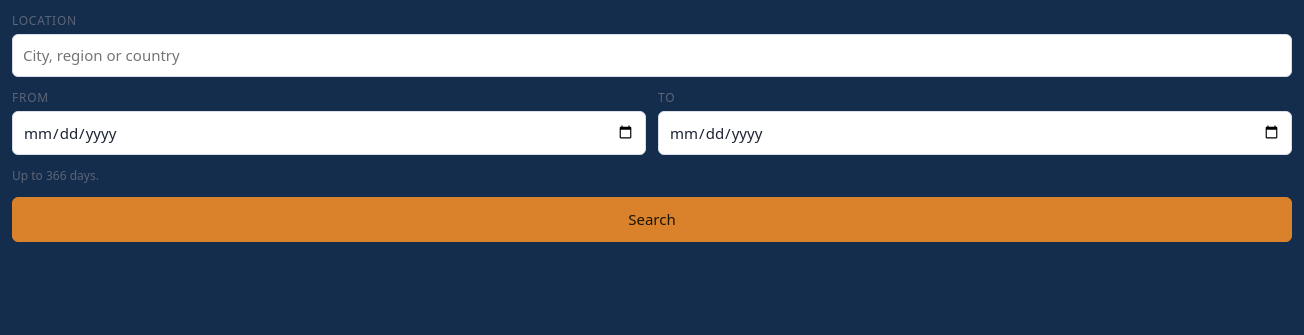
Test: SearchForm › marks the dates when the server rejects the range
This screenshot has width=1304, height=335.
Type "Santiago" into the field labelled "Location" at [652, 55], box left=12, top=34, right=1292, bottom=76
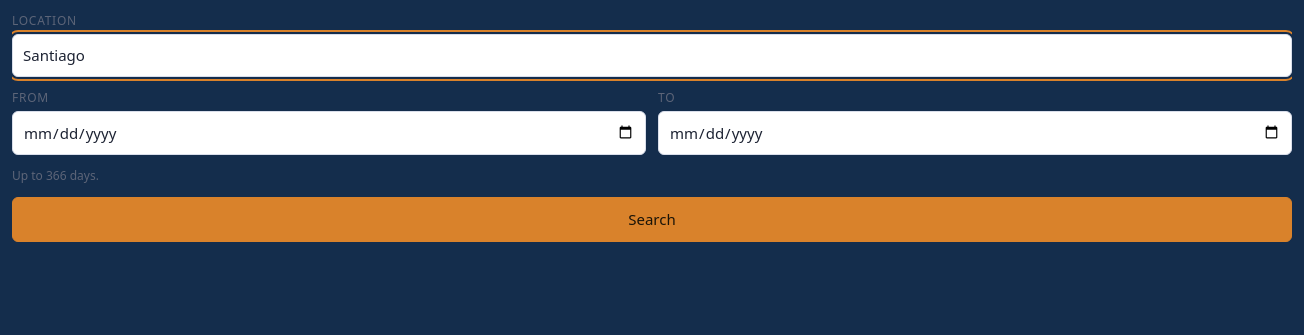
Type "2025-01-01" into the date field labelled "From" at [329, 133], box left=12, top=110, right=646, bottom=155
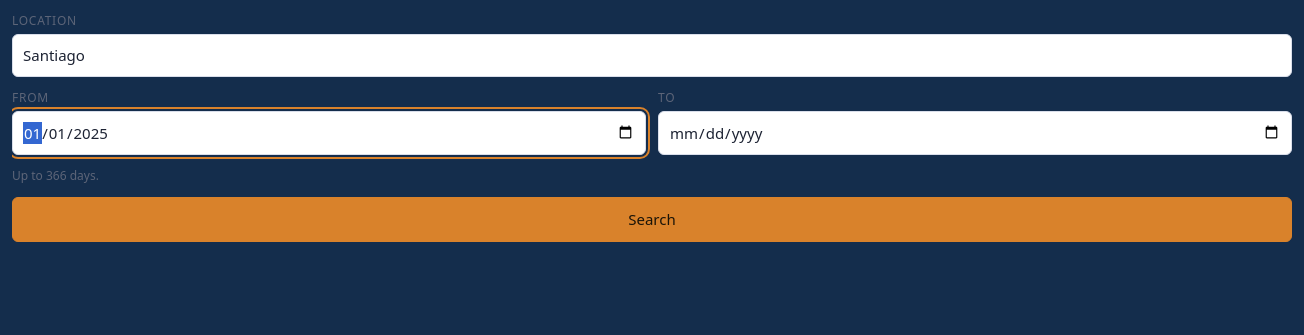
Type "2026-06-22" into the date field labelled "To" at [975, 133], box left=658, top=110, right=1292, bottom=155
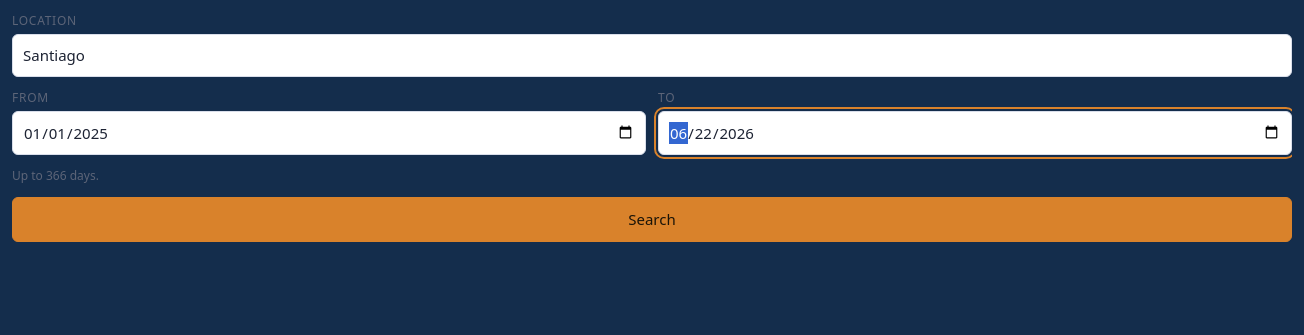
Click the button "Search" at [652, 219], box left=12, top=197, right=1292, bottom=242
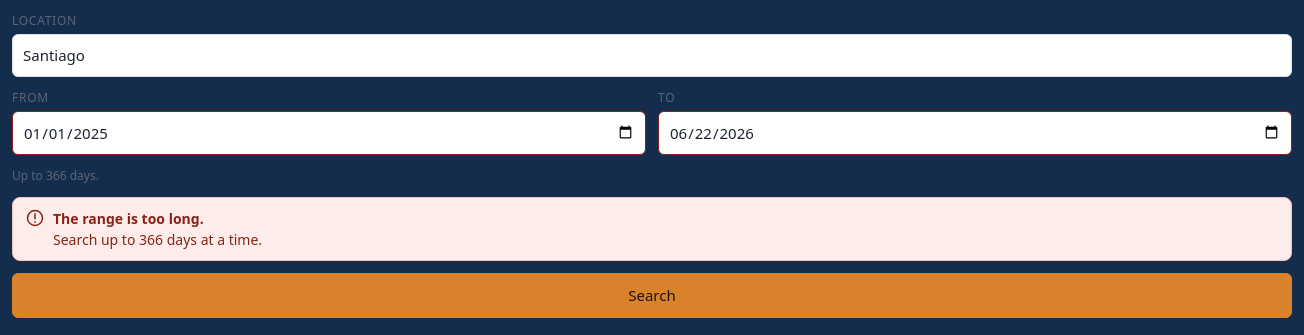
Now the message shows "The range is too long.", box left=53, top=209, right=204, bottom=228
